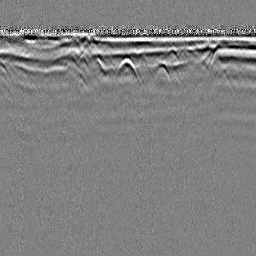cavity: (113, 57, 140, 81)
